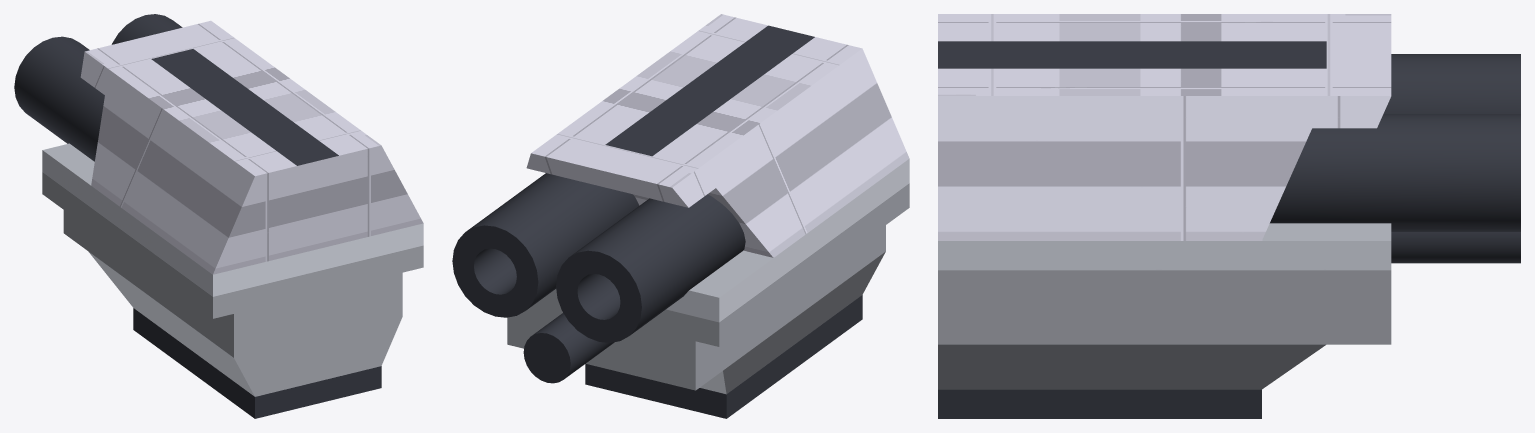
Rendered from turret.glb.
3 renders of one model, left to right at view 1: azimuth 30°, elevation 25°; view 2: azimuth 150°, elevation 25°; view 3: azimuth 270°, elevation 25°, orthographic. The views are drawn at different scales.
Parts seen in each view (by area): view 1: mergedBlocks(Clone); view 2: mergedBlocks(Clone); view 3: mergedBlocks(Clone).
Part boxes in pixels (box(x1,y1,x2,y2)): mergedBlocks(Clone): box(14, 14, 423, 418); mergedBlocks(Clone): box(452, 14, 909, 418); mergedBlocks(Clone): box(938, 14, 1520, 418).
Size of the model in its own units: 0.5 by 0.55 by 0.9.
Materials: 3 (2 with a texture image).
